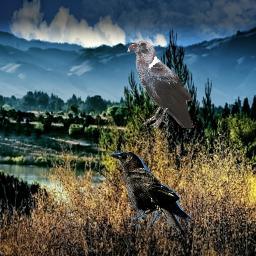Crow: (106, 150, 192, 237), (127, 40, 194, 128)
